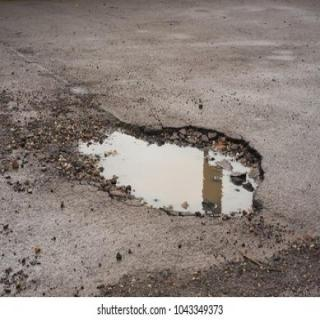pothole: (58, 114, 264, 214)
